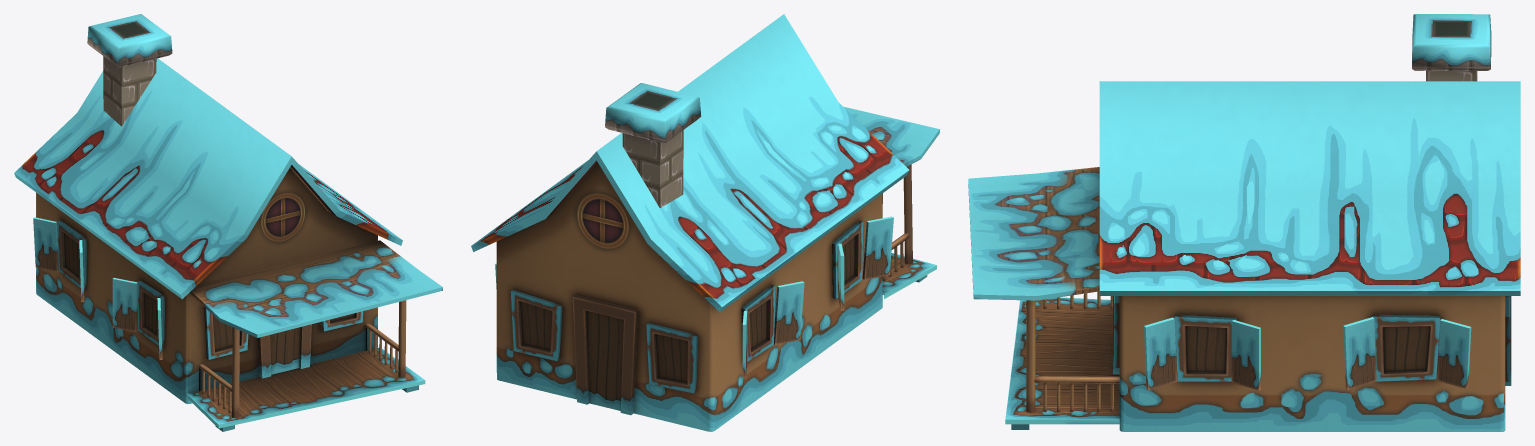
The model's file is House3.FBX.
The picture shows the model from 3 angles, left to right: view 1: azimuth 30°, elevation 25°; view 2: azimuth 150°, elevation 25°; view 3: azimuth 270°, elevation 25°; orthographic projection. The views are drawn at different scales.
Parts seen in each view (by area): view 1: House3; view 2: House3; view 3: House3.
Boxes of the visible parts, left/top/right/bottom form: House3: left=14, top=14, right=442, bottom=431; House3: left=471, top=14, right=939, bottom=431; House3: left=968, top=14, right=1520, bottom=431.
Bounding box in the file's own units: 146 × 158 × 240.
